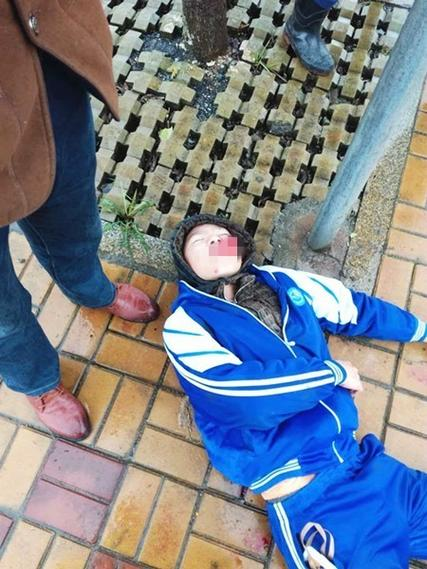down: (157, 204, 427, 563)
